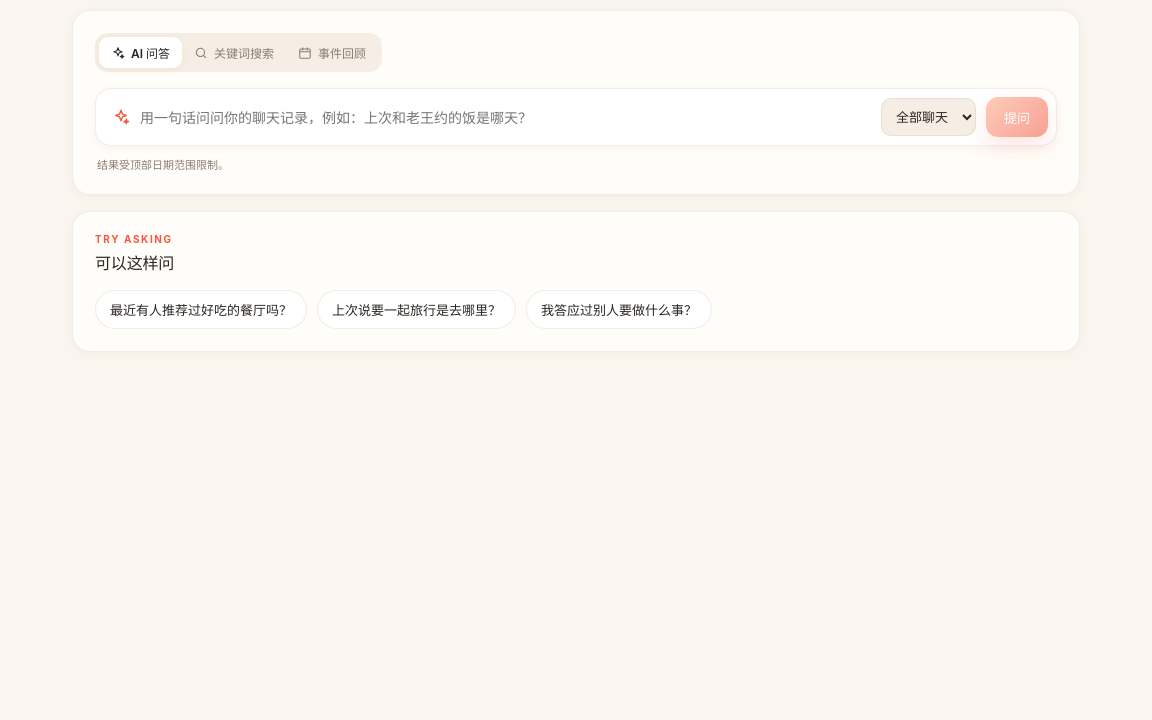
event review › shows an empty-message state without calling the model
The width and height of the screenshot is (1152, 720).
Click the tab "事件回顾". click: (332, 52)
box: 286,37 -> 378,68
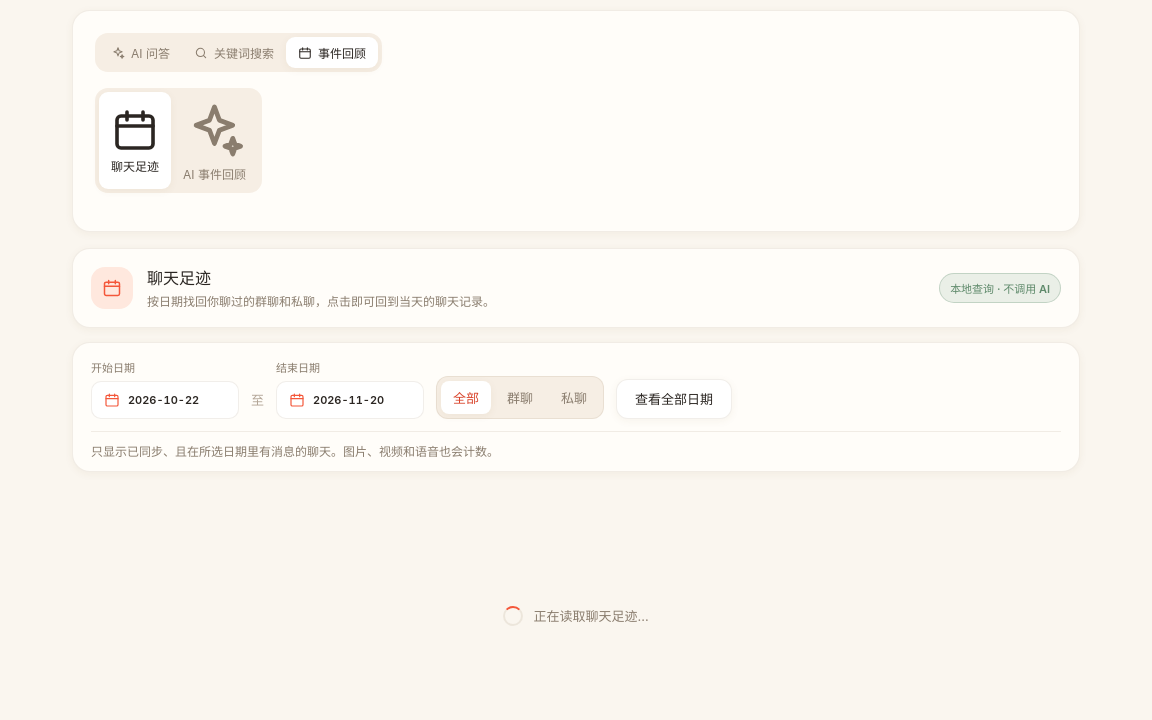
Click the tab "AI 事件回顾". click: (214, 140)
box: 171,92 -> 258,189
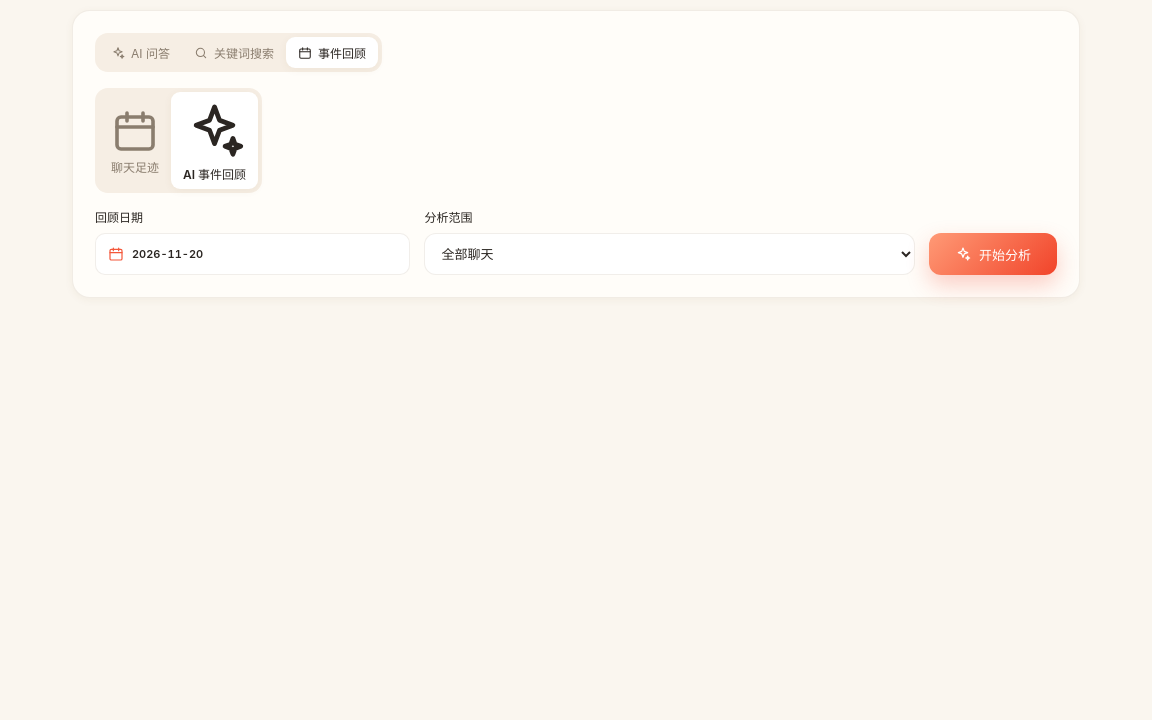
Click the button named "回顾日期". click: (168, 254)
box: 95,233 -> 410,275
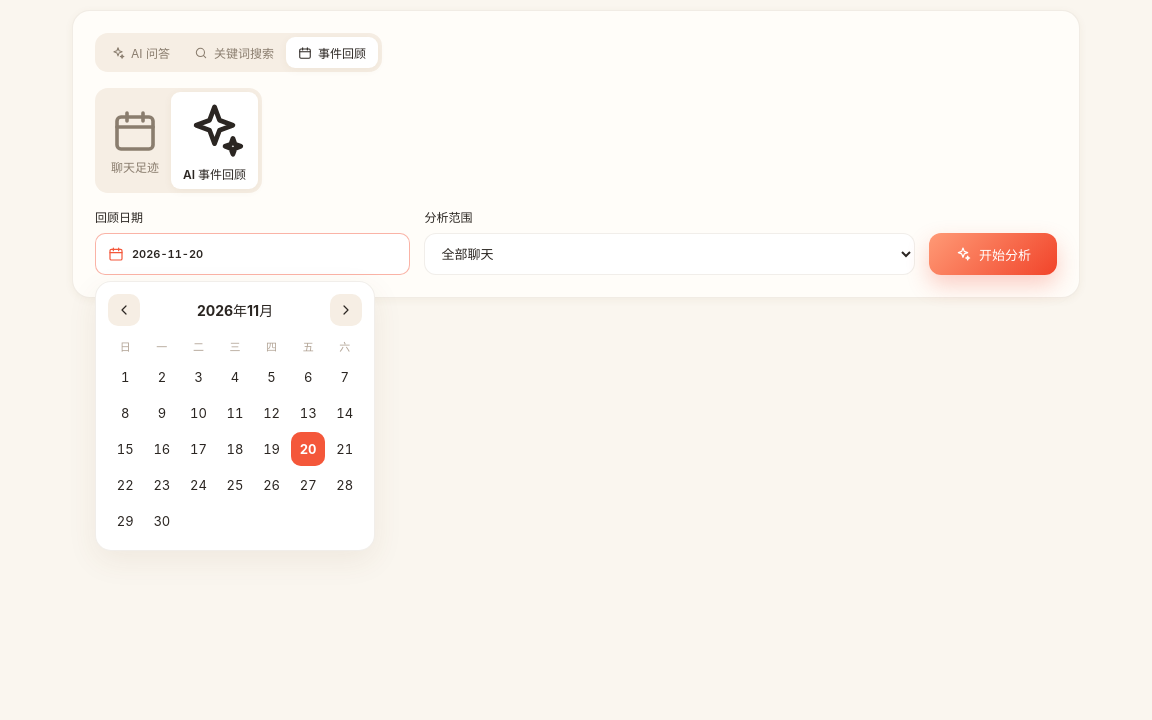
Click the button "27". click: (308, 485)
box: 291,468 -> 325,502
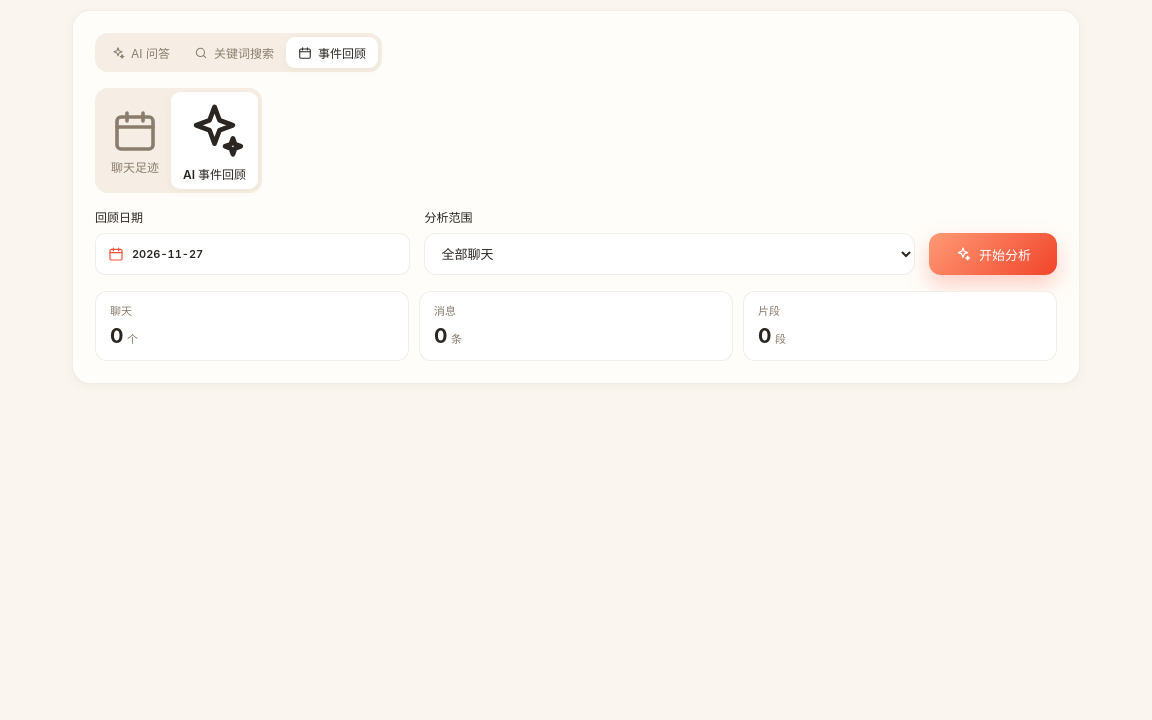
Click the button "开始分析". click: (993, 254)
box: 929,233 -> 1057,275
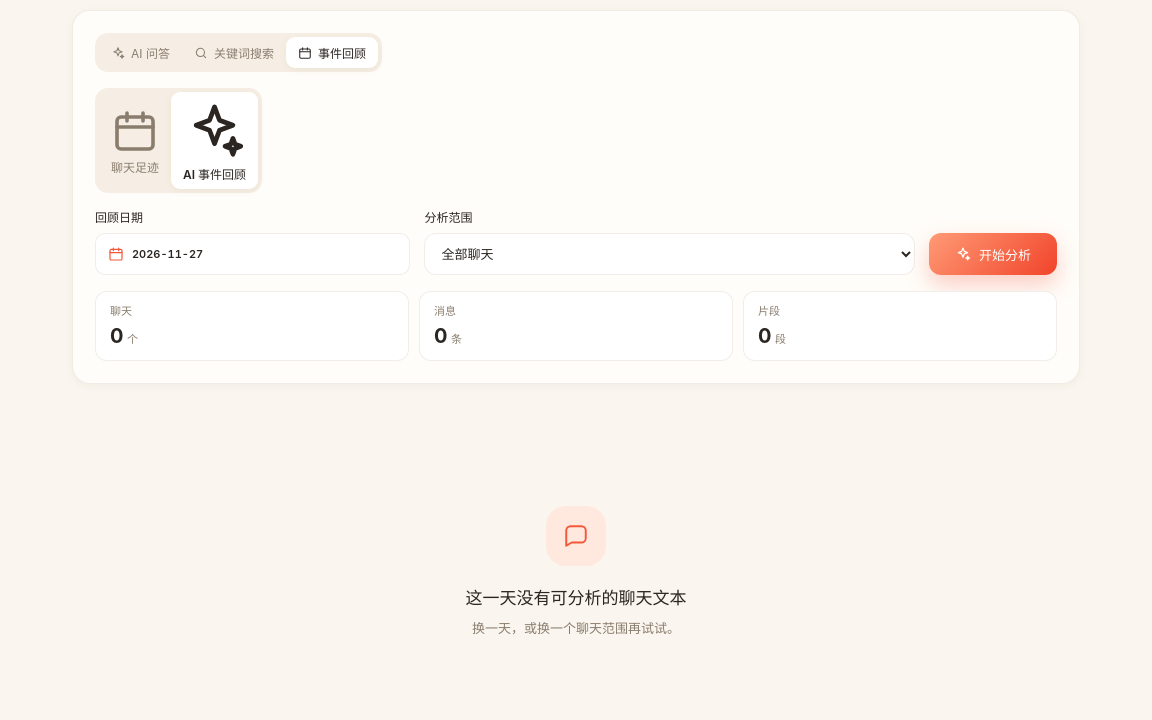
Now the heading "这一天没有可分析的聊天文本" is shown, box 466,584 -> 686,609
